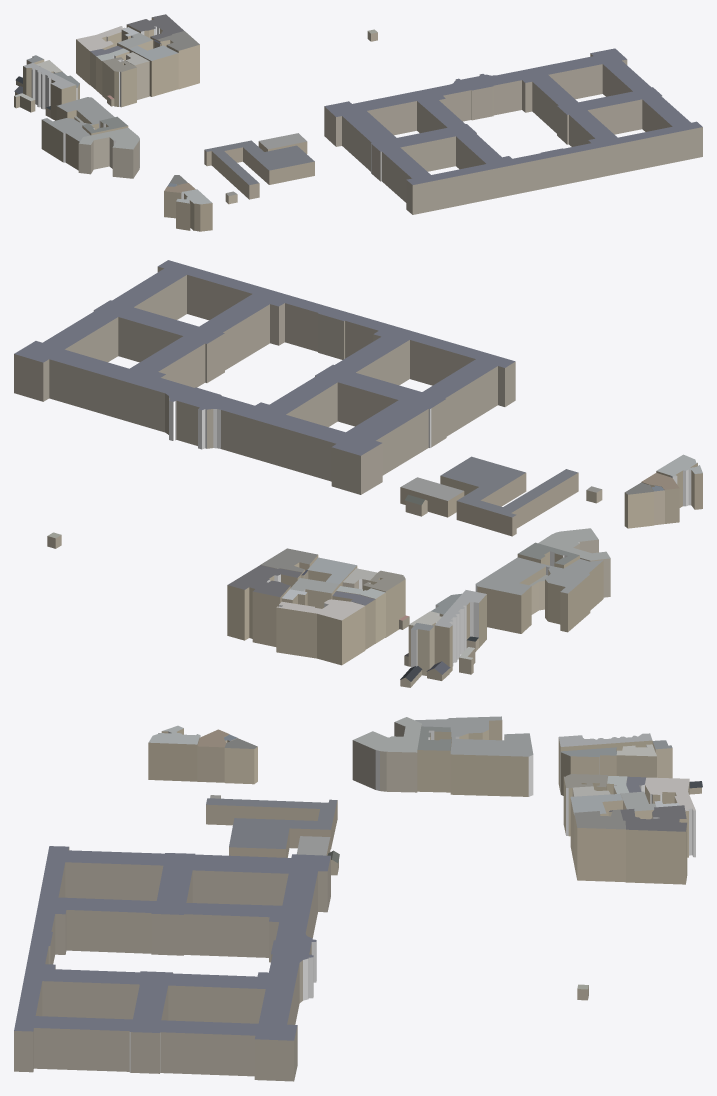
3 views of the same model, one above another, from view 1: azimuth 30°, elevation 25°; view 2: azimuth 150°, elevation 25°; view 3: azimuth 270°, elevation 25° (orthographic). The views are drawn at different scales.
Parts seen in each view (by area): view 1: tuile; view 2: tuile; view 3: tuile.
Part boxes in pixels (x1=…): tuile: x1=14, y1=14, x2=702, y2=231; tuile: x1=14, y1=260, x2=702, y2=687; tuile: x1=14, y1=716, x2=702, y2=1081.
Bounding box in the file's own units: 360 × 27.27 × 316.
